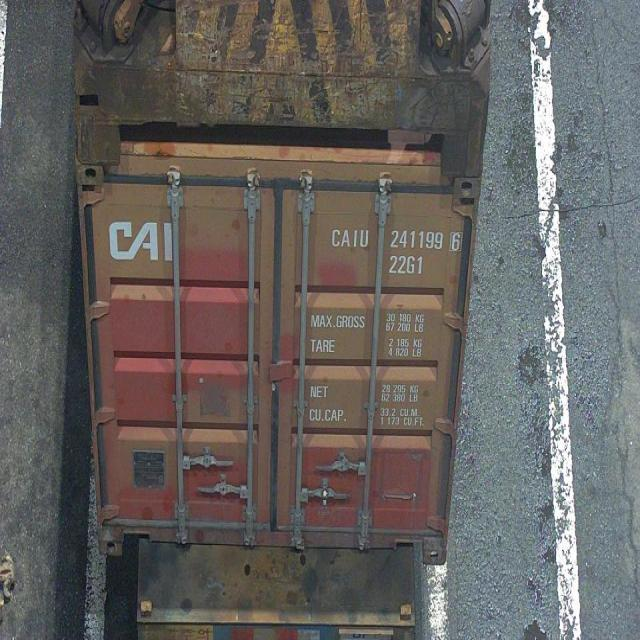ISO: (389, 254, 426, 276)
container_number: (336, 228, 464, 252)
